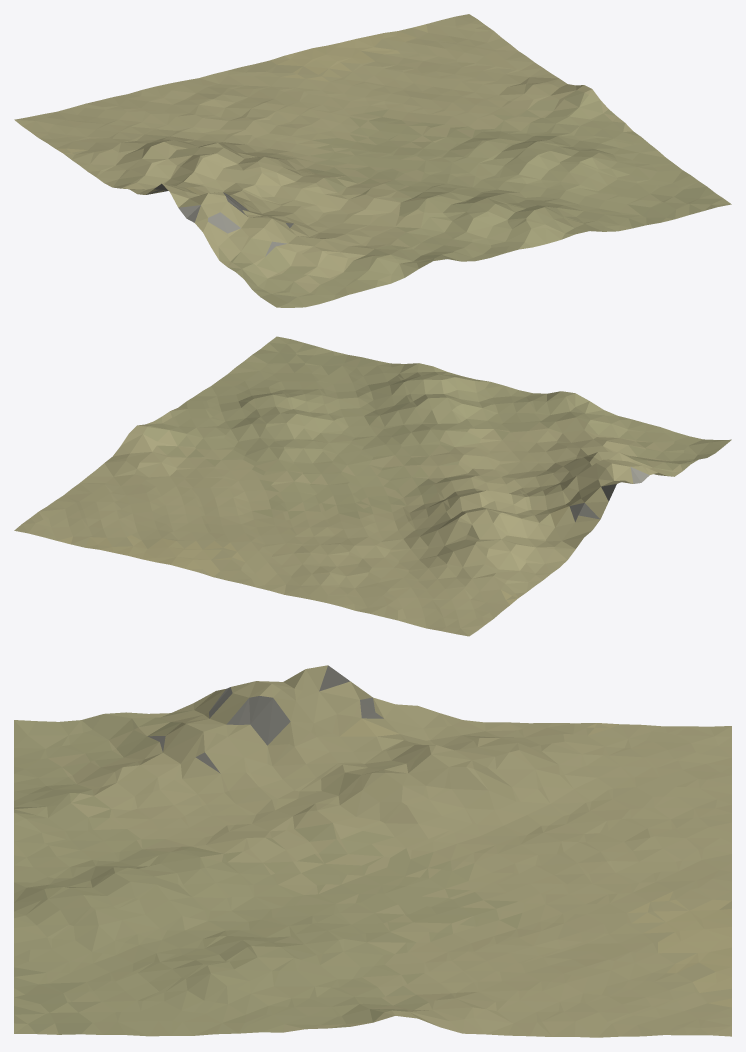
Rendered from Ground_2_5.glb.
3 views of the same model, one above another, from view 1: azimuth 30°, elevation 25°; view 2: azimuth 150°, elevation 25°; view 3: azimuth 270°, elevation 25° (orthographic). The views are drawn at different scales.
Parts seen in each view (by area): view 1: Ground_2_5; view 2: Ground_2_5; view 3: Ground_2_5.
Boxes of the visible parts, x1,y1,x2,y2 form: Ground_2_5: (14,14,731,307); Ground_2_5: (14,336,731,636); Ground_2_5: (14,665,731,1037).
Bounding box in the file's own units: 768 × 81.54 × 768.
